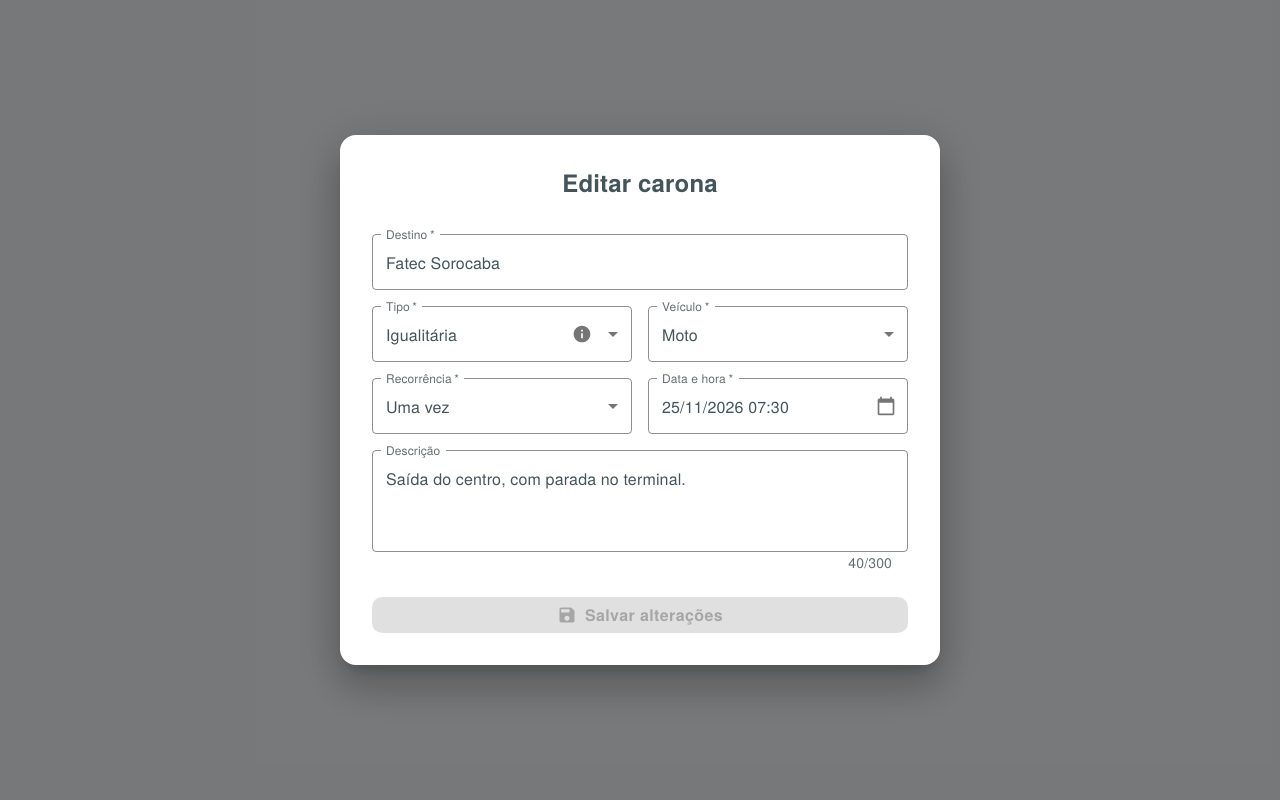
Test case: RideFormDialog › should keep the dialog open when the api fails, with what was typed
Check: the heading "Editar carona" is shown, box x1=562 y1=165 x2=718 y2=199
Clear the dropdown labelled "Destino *". click: {"x": 640, "y": 262}
box: x1=381 y1=243 x2=899 y2=281
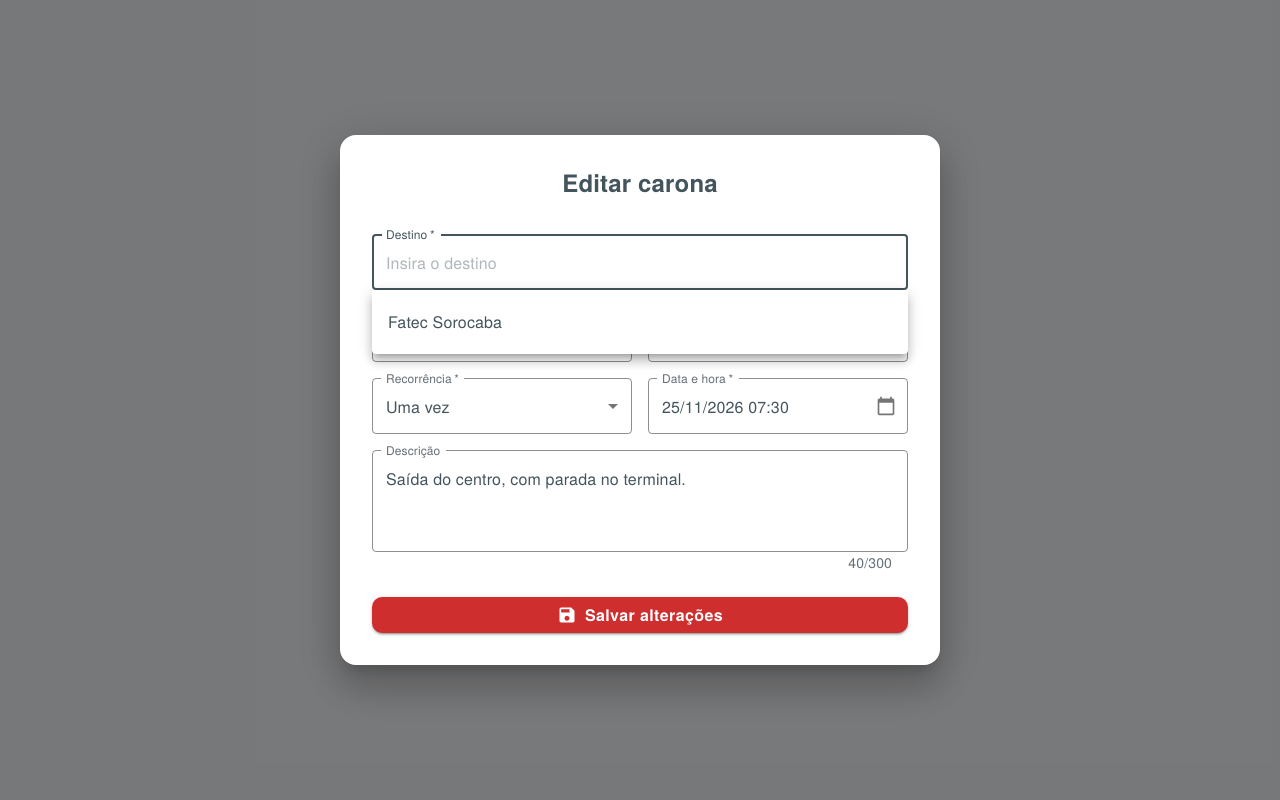
Type keys "Rodoviária de Sorocaba"
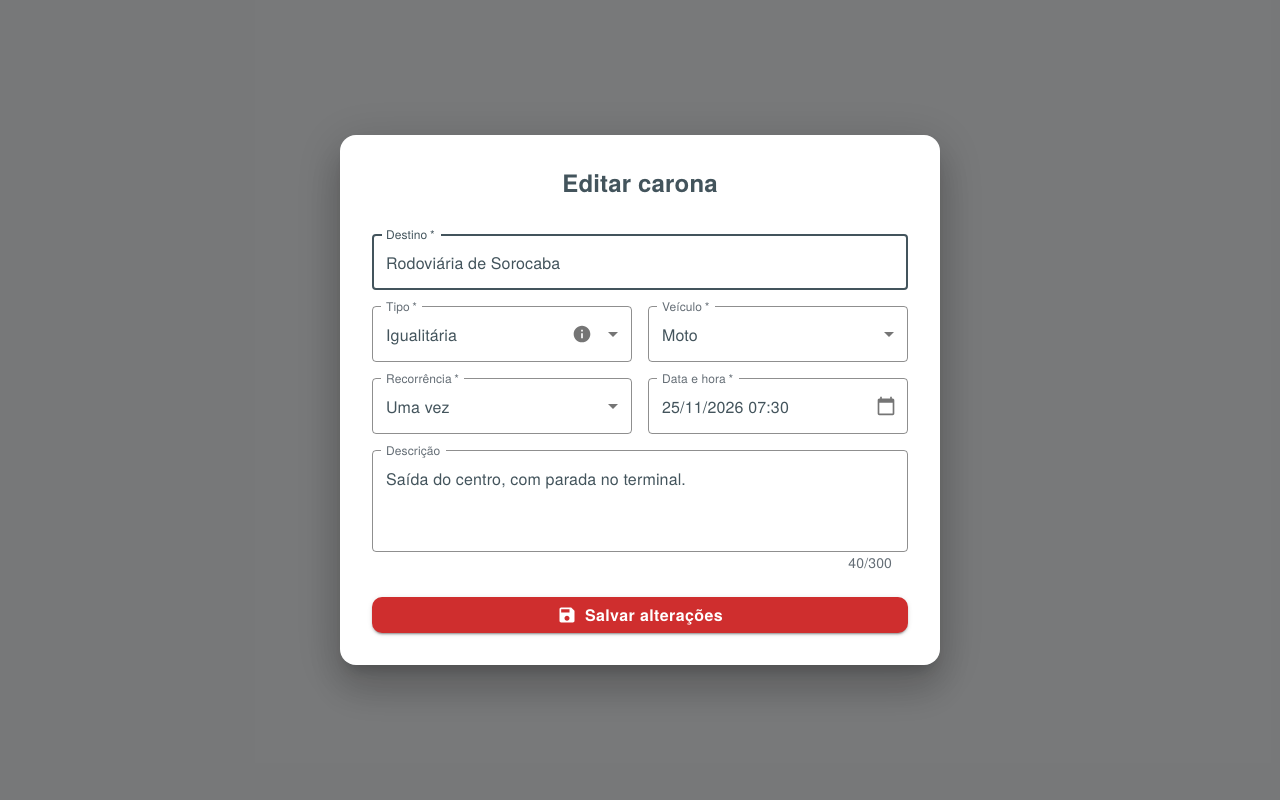
Click the button "Salvar alterações". click: {"x": 640, "y": 615}
box: x1=372 y1=597 x2=908 y2=633
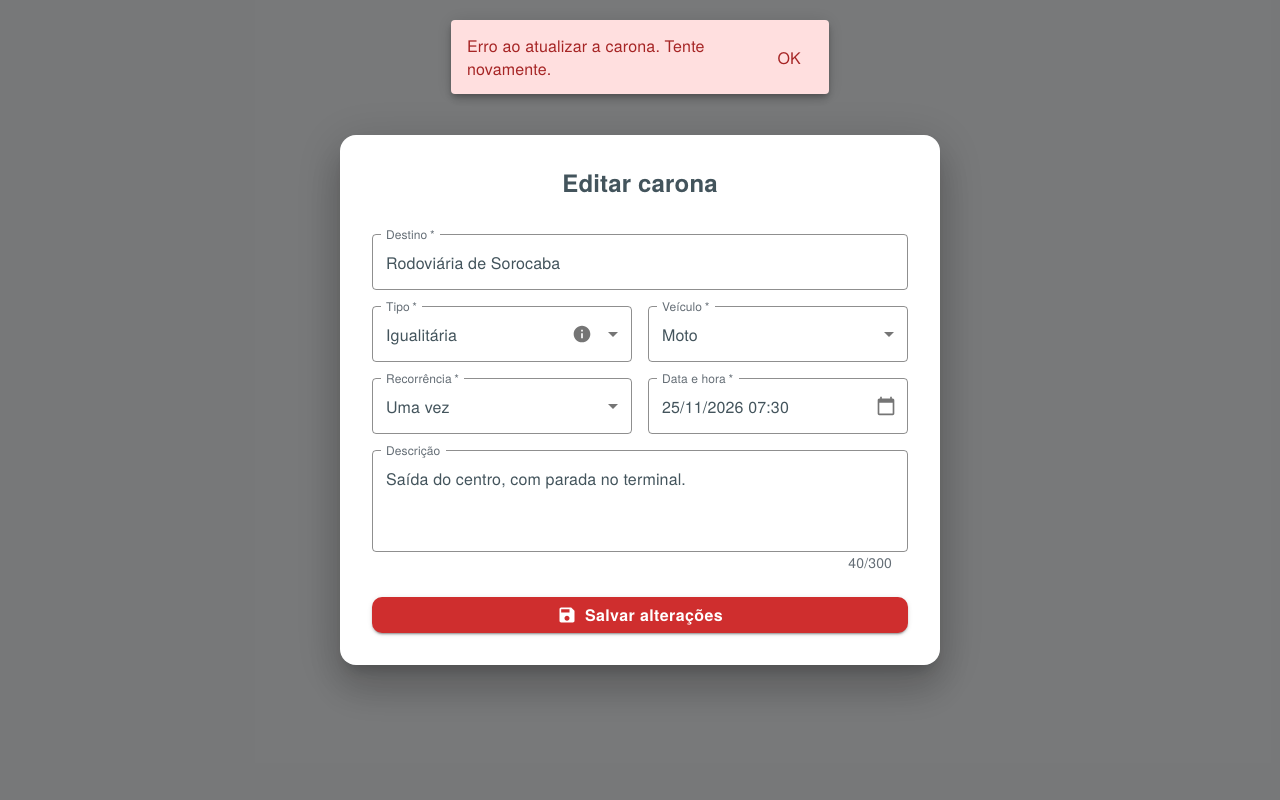
Check: the dropdown labelled "Destino *" holds "Rodoviária de Sorocaba", box x1=381 y1=243 x2=899 y2=281
Check: the text "Erro ao atualizar a carona. Tente novamente." is shown, box x1=467 y1=34 x2=705 y2=80
